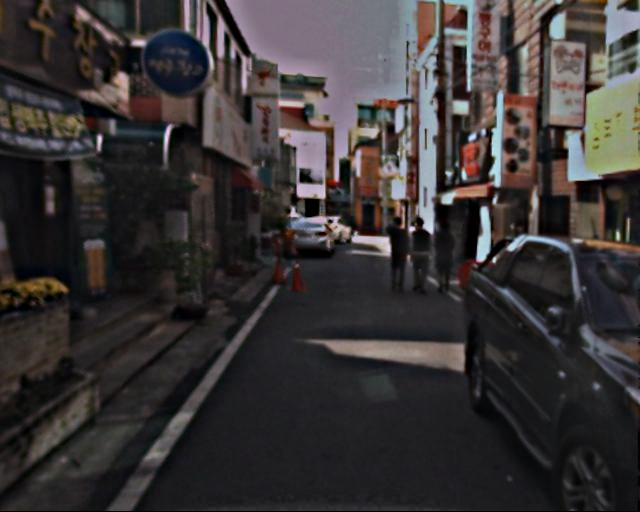person: (403, 217, 435, 295), (382, 221, 412, 294), (427, 220, 456, 291)
